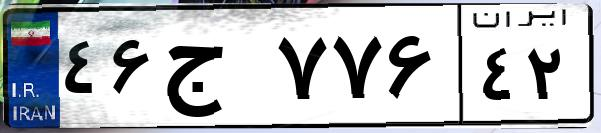2: (525, 38, 570, 115)
4: (57, 26, 110, 100), (475, 38, 525, 113)
6: (385, 28, 445, 110), (110, 28, 158, 98)
7: (270, 28, 330, 110), (330, 28, 385, 110)
ج: (158, 20, 270, 120)
